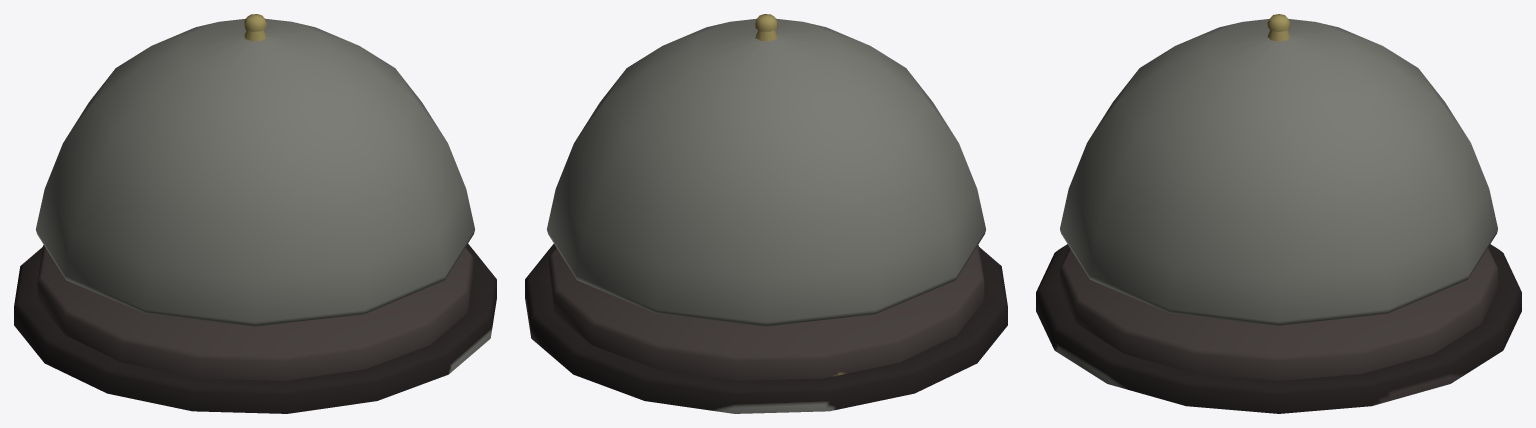
File: sino.fbx
3 renders of one model, left to right at view 1: azimuth 30°, elevation 25°; view 2: azimuth 150°, elevation 25°; view 3: azimuth 270°, elevation 25°, orthographic.
Parts seen in each view (by area): view 1: Sino; view 2: Sino; view 3: Sino.
Boxes of the visible parts, x1,y1,x2,y2 form: Sino: (14,14,496,413); Sino: (525,14,1007,413); Sino: (1036,14,1521,413).
Size of the model in its own units: 15.45 by 23.02 by 23.02.
